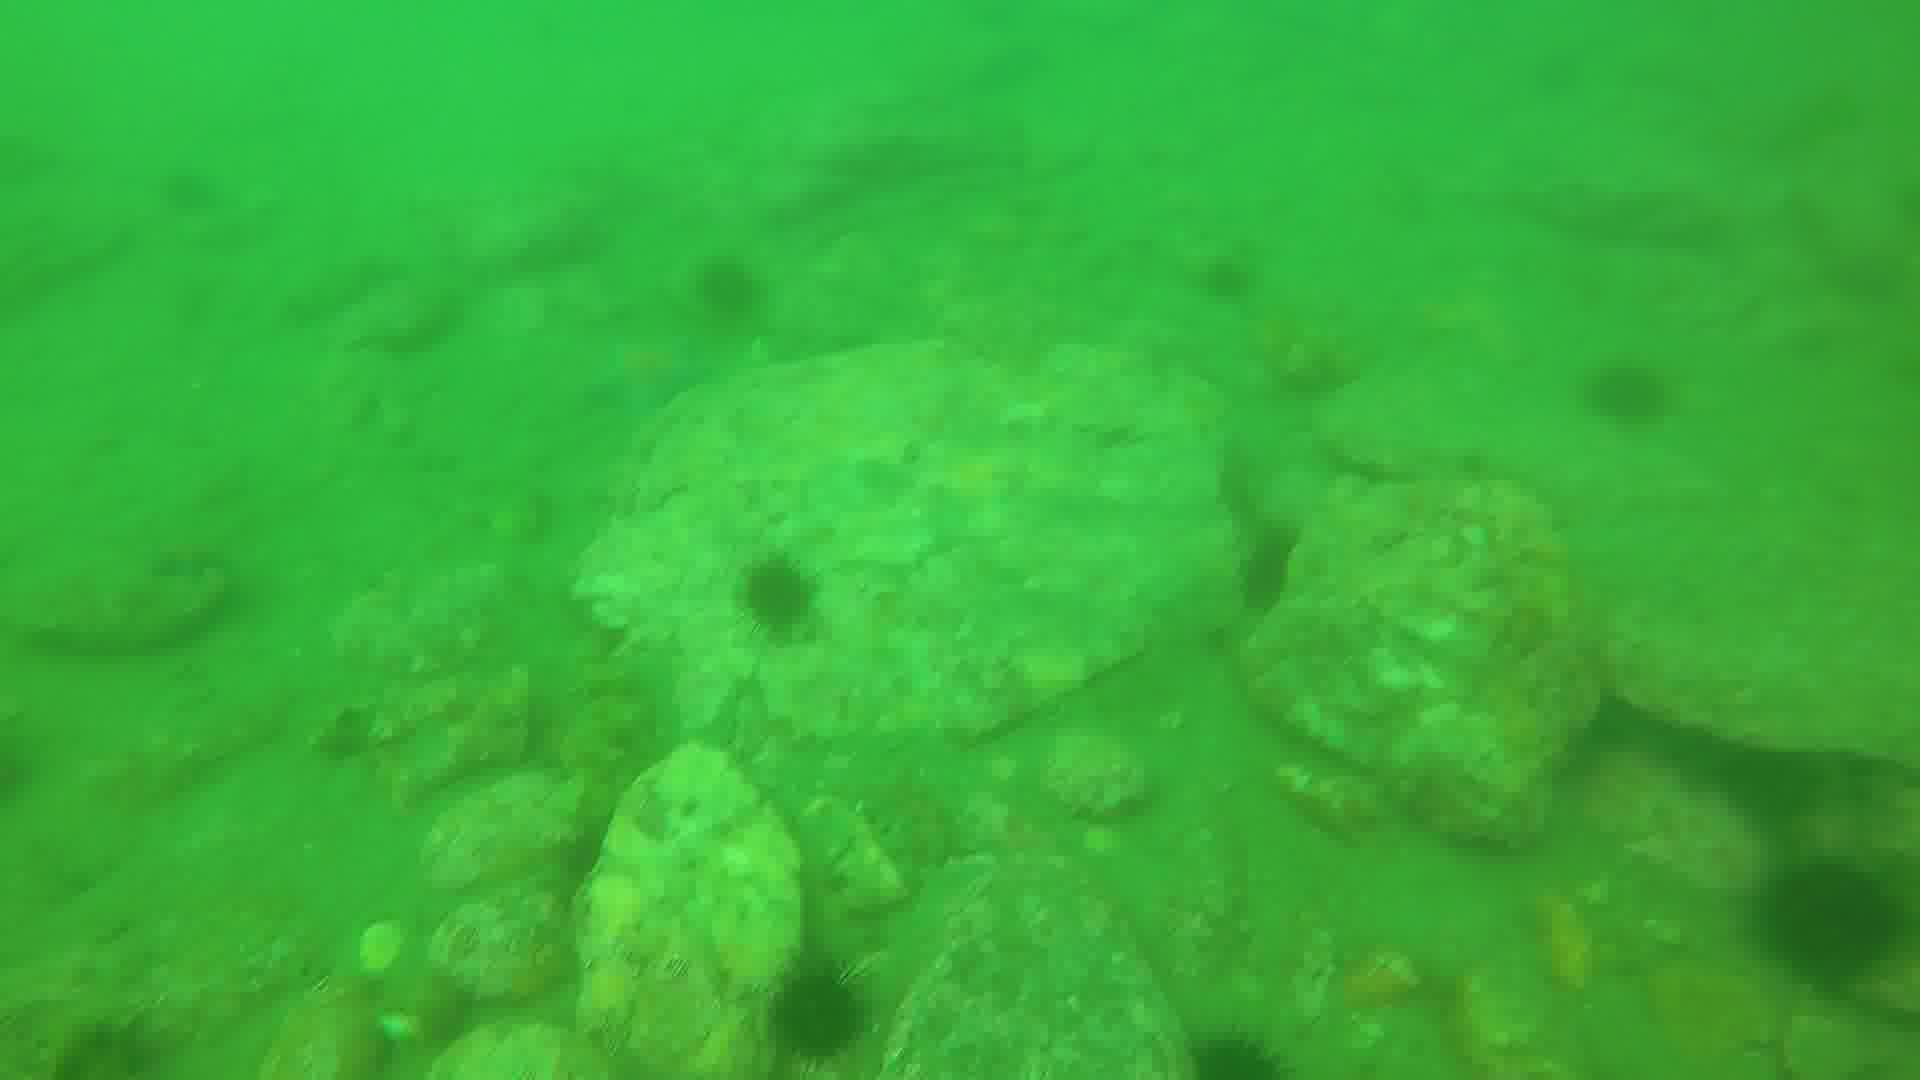echinus: (1751, 855, 1903, 985), (764, 961, 872, 1073), (1721, 756, 1829, 844), (1577, 361, 1669, 430), (742, 559, 822, 632), (1168, 1033, 1284, 1080), (1237, 535, 1298, 608), (698, 258, 766, 310)
starfish: (587, 336, 713, 427)
